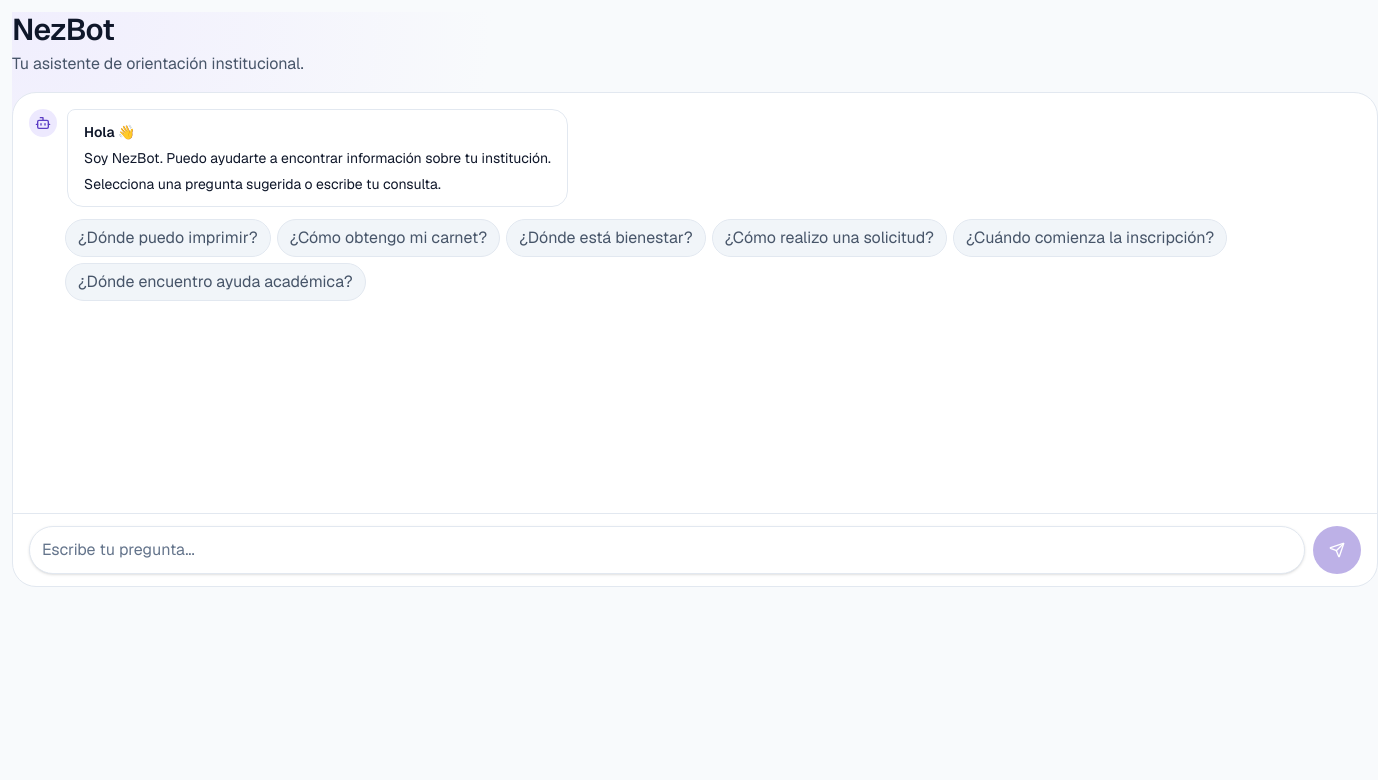
Test case: NezbotClientPage — conversación › envía al hacer clic en el botón enviar
Type "bienestar" into the field labelled "Escribe tu pregunta...". click: x=667, y=550
box: [29,526,1305,574]
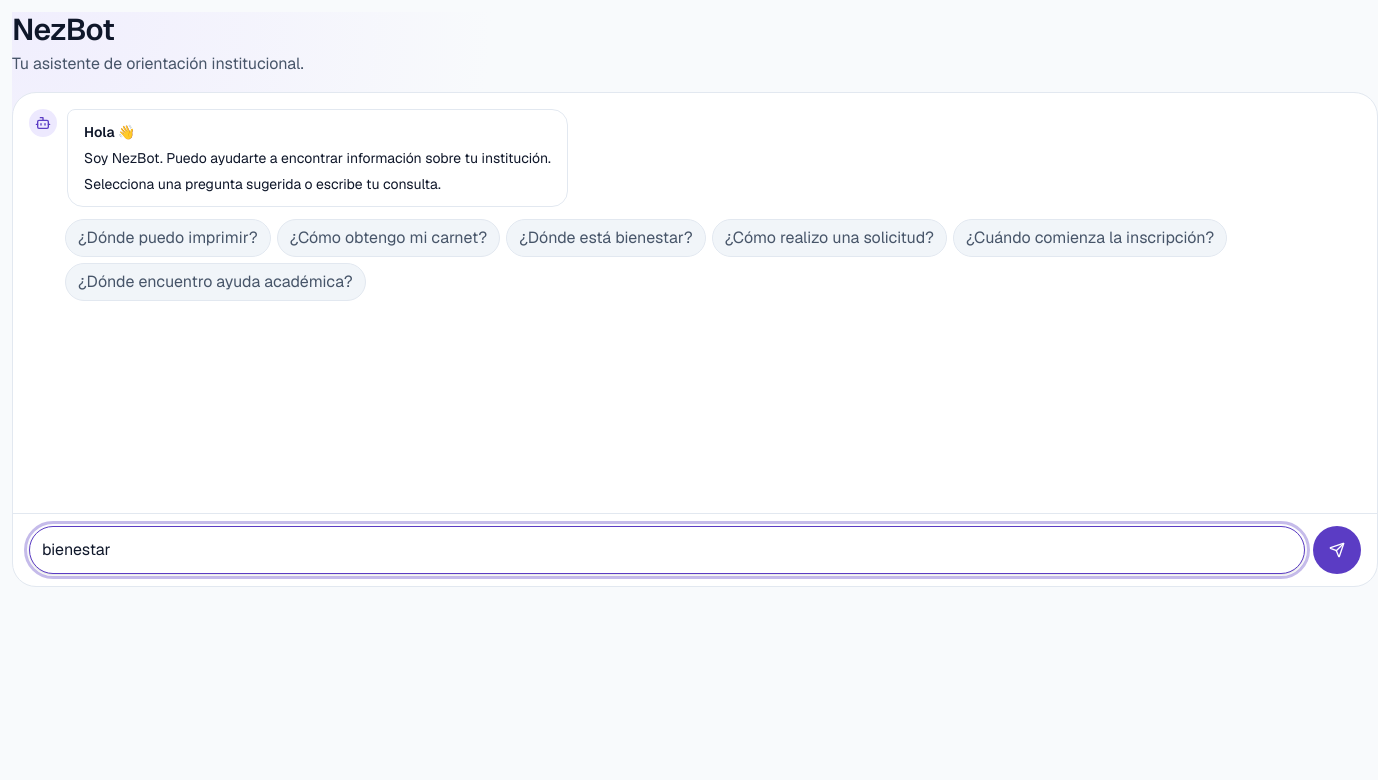
Click the button named "enviar mensaje". click: x=1337, y=550
box: [1313,526,1361,574]
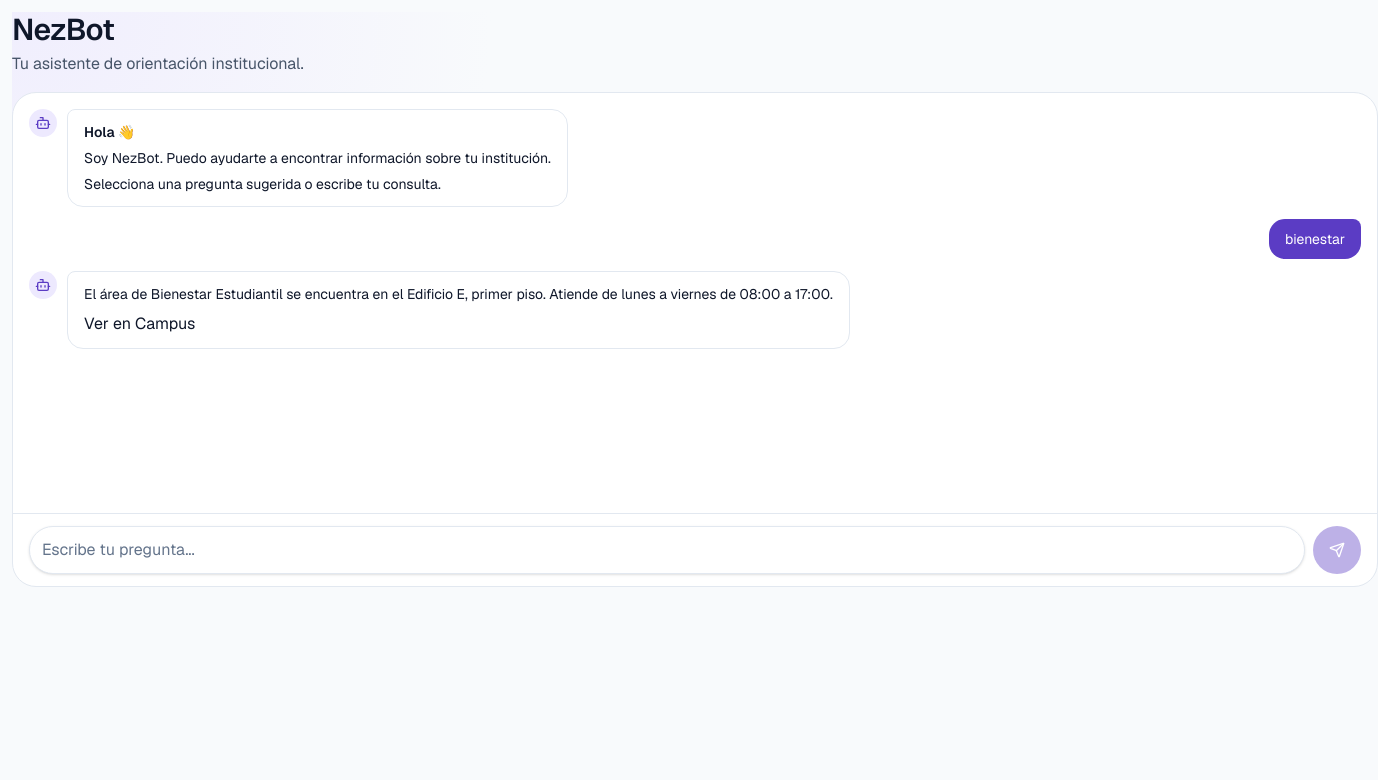
Check: the text "Bienestar Estudiantil" is shown, box [84,285,833,303]
